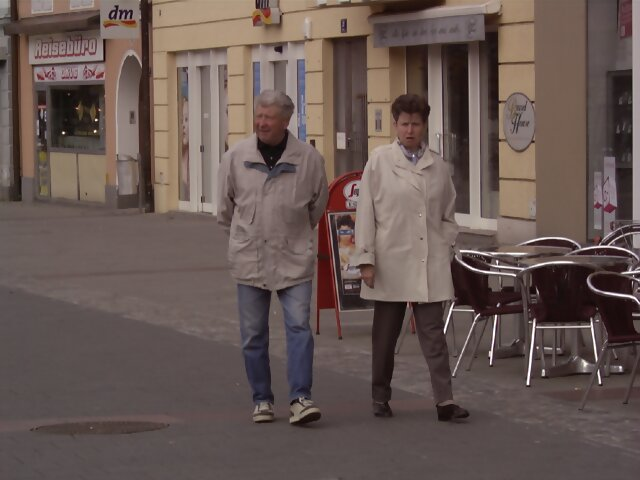person: (353, 93, 483, 432), (209, 84, 333, 427)
